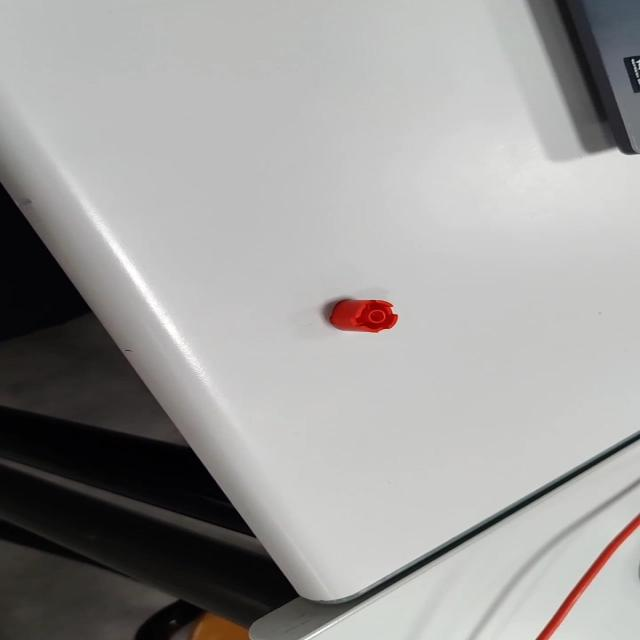S2x2x1: (326, 296, 401, 334)
